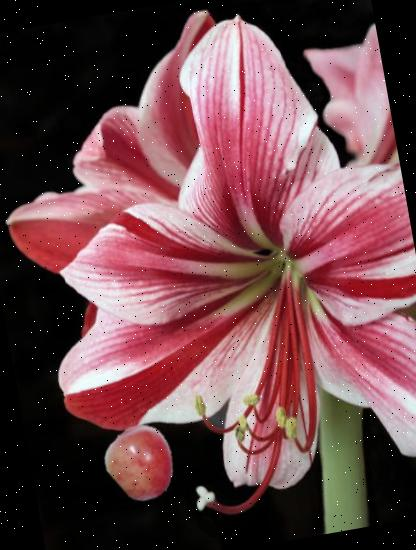Cherry: (100, 418, 186, 505)
